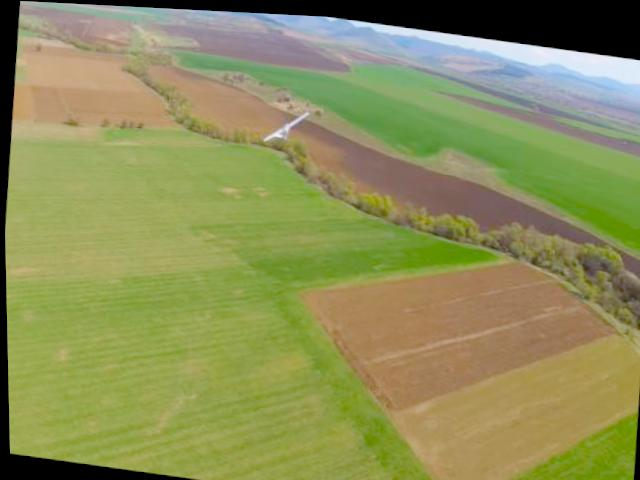uav: (256, 94, 314, 149)
